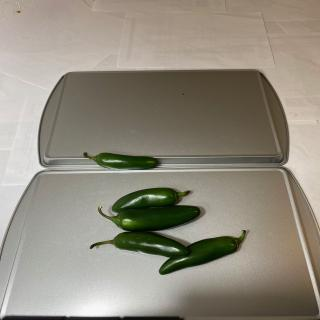Tomato: (159, 230, 246, 275), (98, 204, 201, 232), (90, 231, 188, 258), (111, 188, 191, 214), (82, 152, 158, 170)
